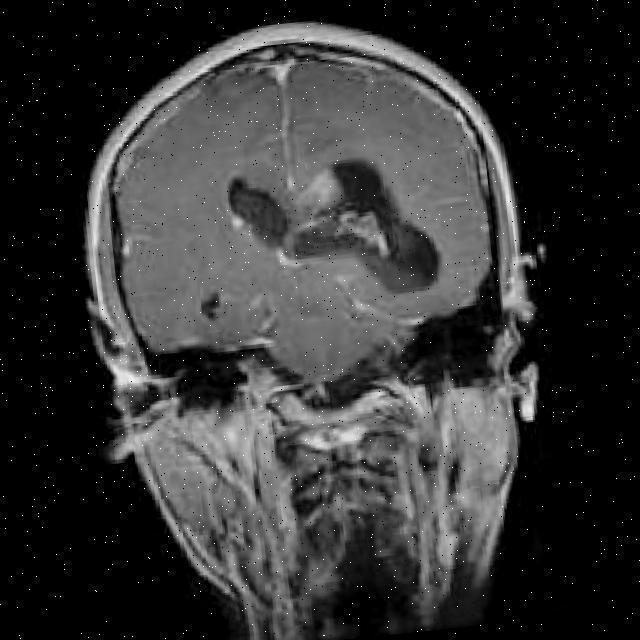MCI: (302, 187, 512, 354), (179, 262, 250, 346)
